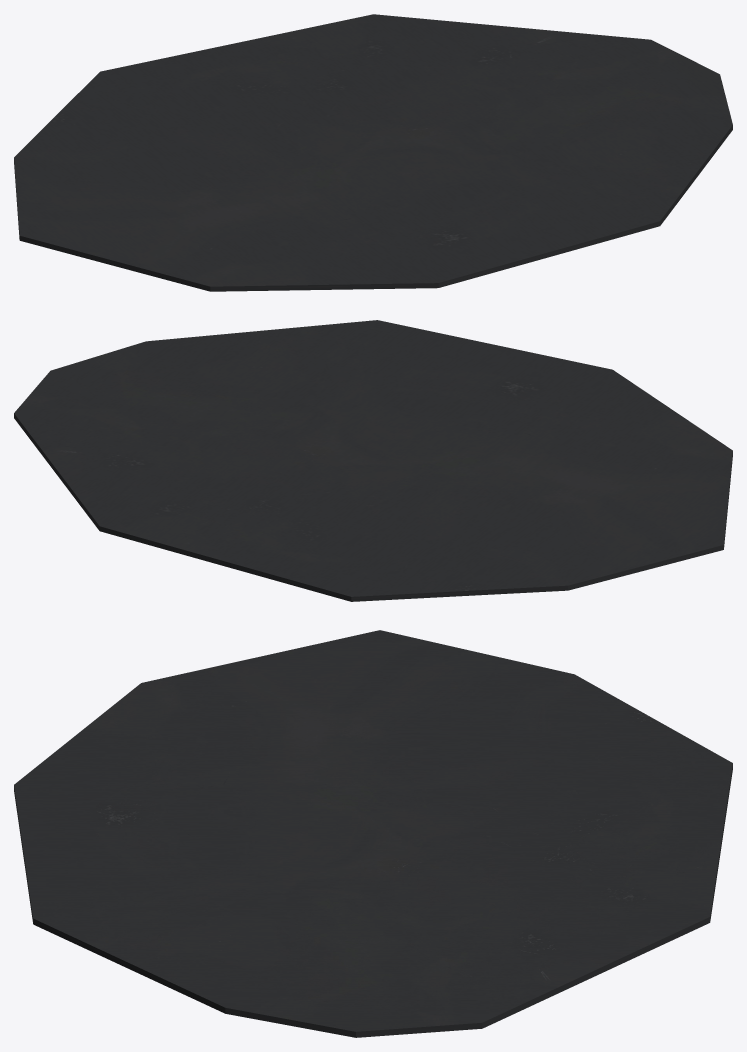
Rendered from plateforme_parcours.obj.
3 views of the same model, one above another, from view 1: azimuth 30°, elevation 25°; view 2: azimuth 150°, elevation 25°; view 3: azimuth 270°, elevation 25° (orthographic). The views are drawn at different scales.
Parts seen in each view (by area): view 1: plateforme_parcours; view 2: plateforme_parcours; view 3: plateforme_parcours.
Boxes of the visible parts, x1,y1,x2,y2 form: plateforme_parcours: (14,14,732,291); plateforme_parcours: (14,320,732,601); plateforme_parcours: (14,630,732,1037).
Size of the model in its own units: 6.8 by 0.0496 by 5.14.
1 material, 1 textured.
